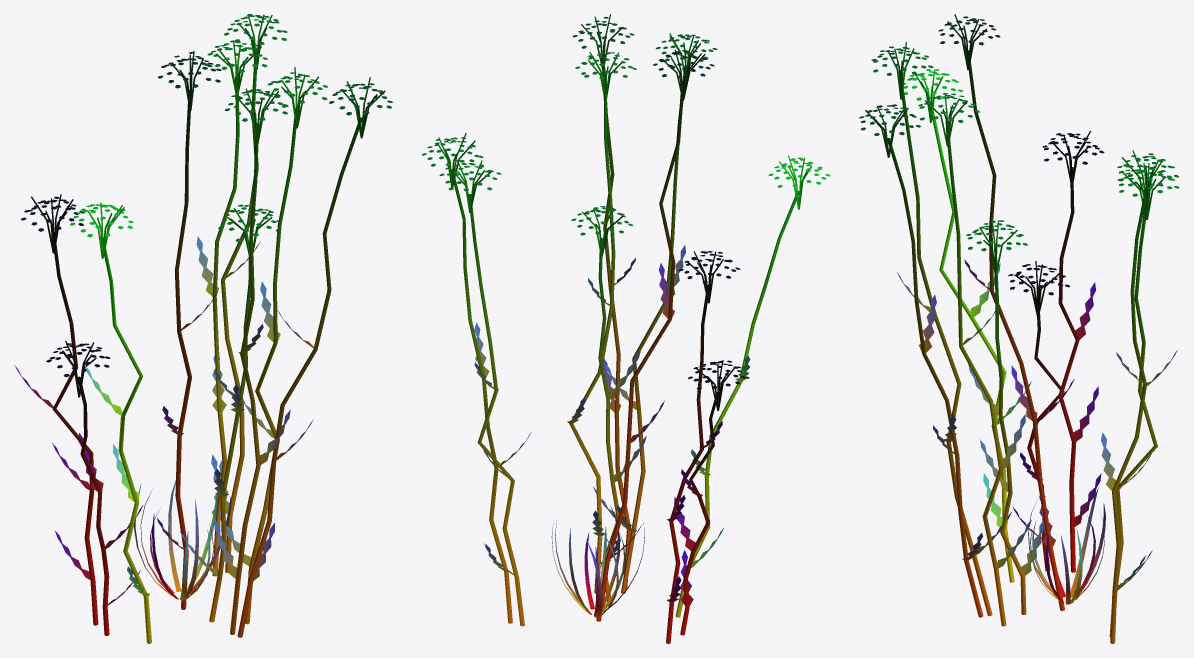
Rendered from SM_Flower_Yarrow_B.fbx.
The picture shows the model from 3 angles, left to right: view 1: azimuth 30°, elevation 25°; view 2: azimuth 150°, elevation 25°; view 3: azimuth 270°, elevation 25°; orthographic projection. The views are drawn at different scales.
Parts seen in each view (by area): view 1: SM_Flower_Yarrow_B; view 2: SM_Flower_Yarrow_B; view 3: SM_Flower_Yarrow_B.
Boxes of the visible parts, left/top/right/bottom form: SM_Flower_Yarrow_B: left=14, top=14, right=392, bottom=643; SM_Flower_Yarrow_B: left=422, top=14, right=830, bottom=643; SM_Flower_Yarrow_B: left=859, top=14, right=1179, bottom=643.
Size of the model in its own units: 0.3424 by 0.6102 by 0.3097.
